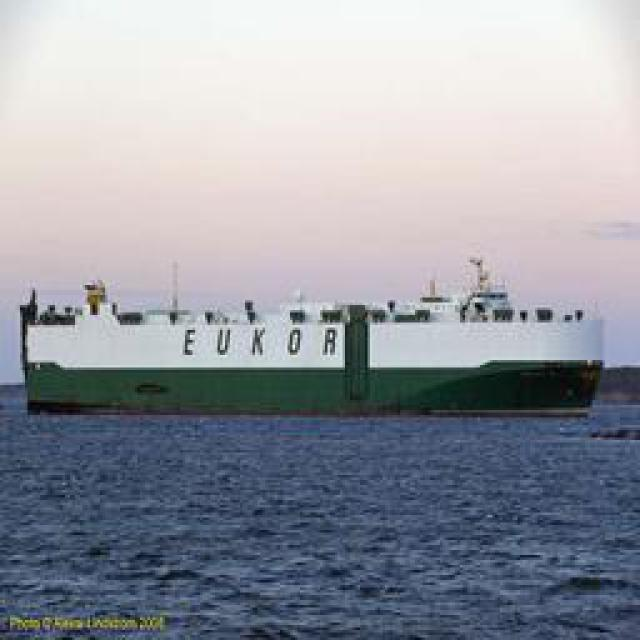Ship: (19, 269, 624, 424)
